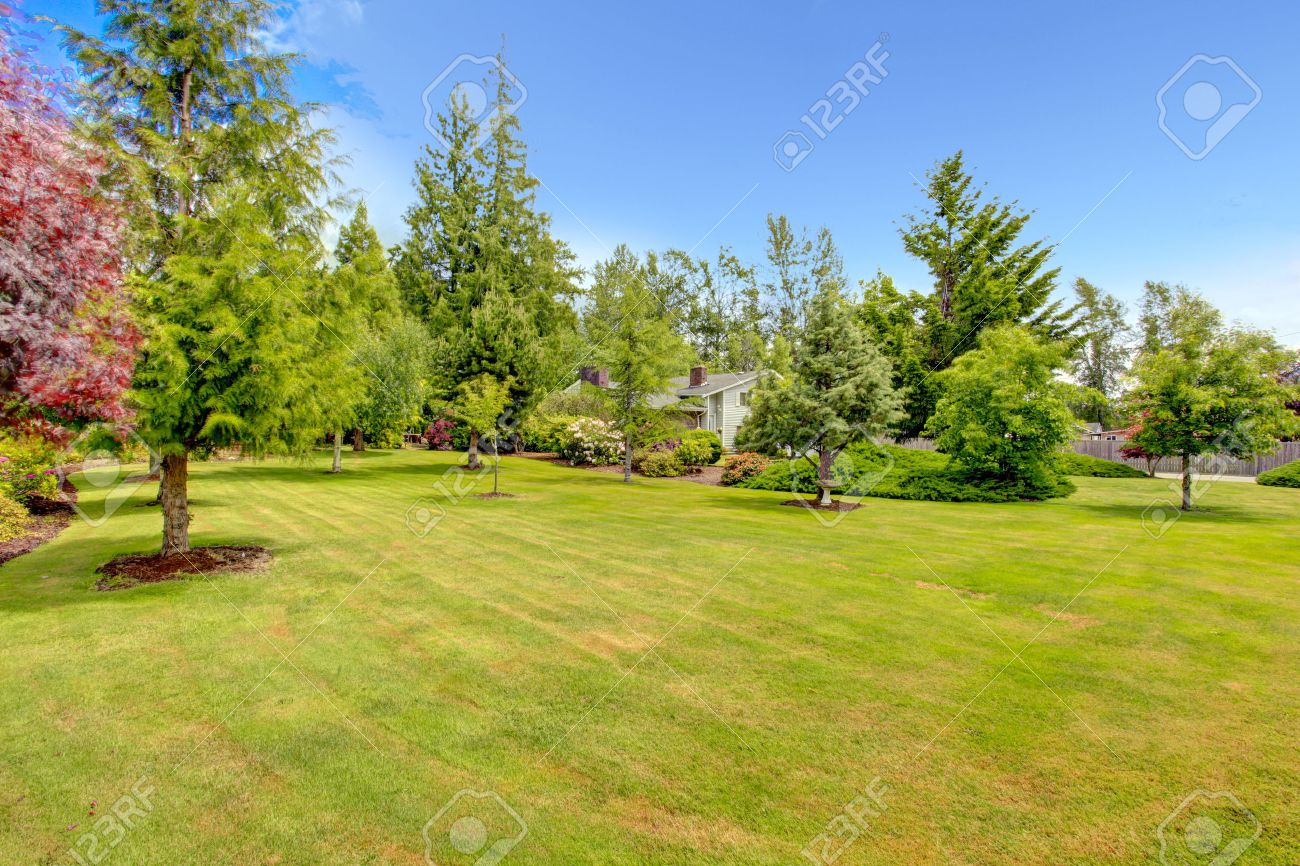tree: (69, 10, 331, 562), (1104, 298, 1300, 517), (766, 275, 905, 514), (923, 318, 1089, 511), (572, 243, 695, 502), (434, 365, 539, 495)
